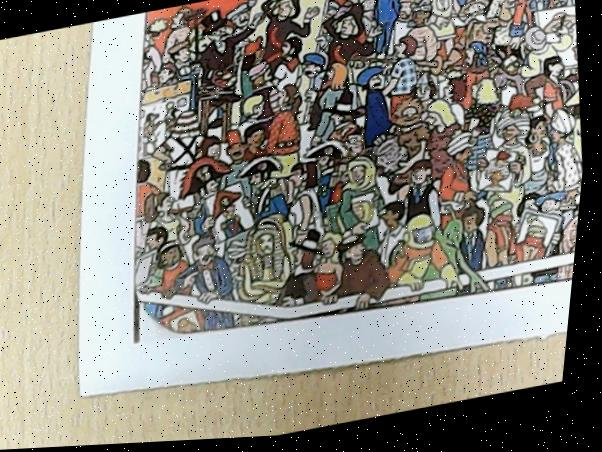waldo: (335, 127, 370, 165)
